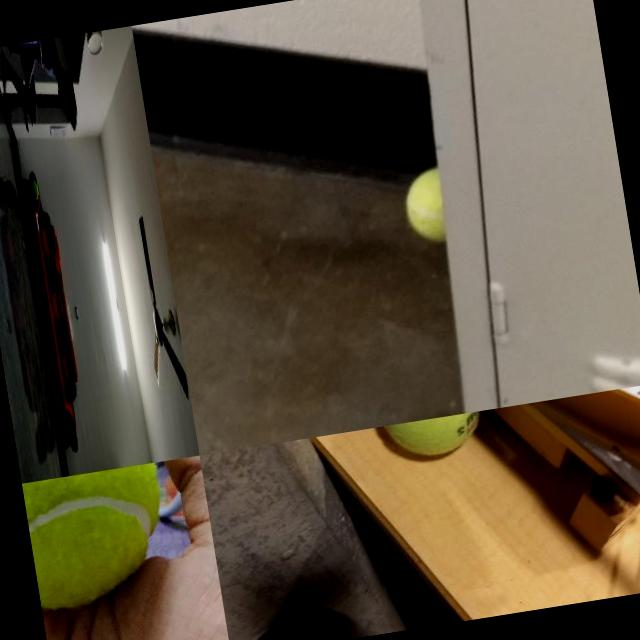Tennis Ball: (23, 462, 179, 617), (381, 410, 492, 466), (400, 168, 445, 246), (32, 178, 40, 202)
